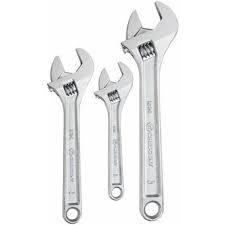wrench: (119, 0, 179, 222), (45, 45, 94, 224), (92, 59, 134, 201)
